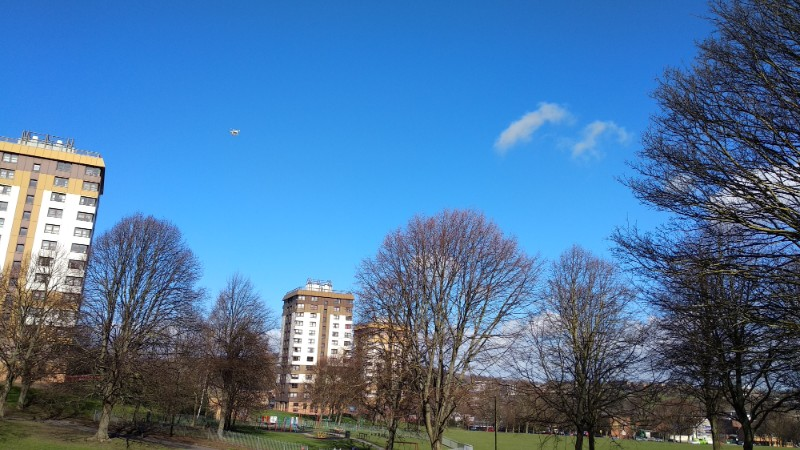drone: (230, 127, 240, 137)
